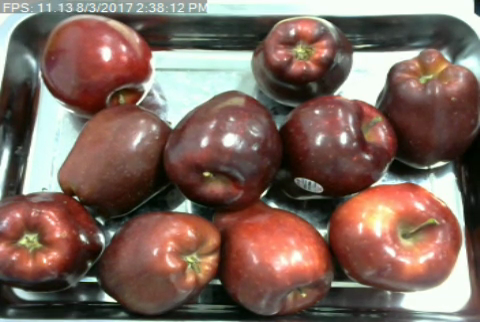Apple: (326, 180, 463, 295), (159, 90, 287, 211), (208, 198, 334, 319), (93, 208, 224, 316), (371, 45, 480, 173), (273, 91, 399, 200), (55, 103, 175, 214), (39, 10, 157, 116), (0, 190, 108, 296), (249, 12, 356, 108)
